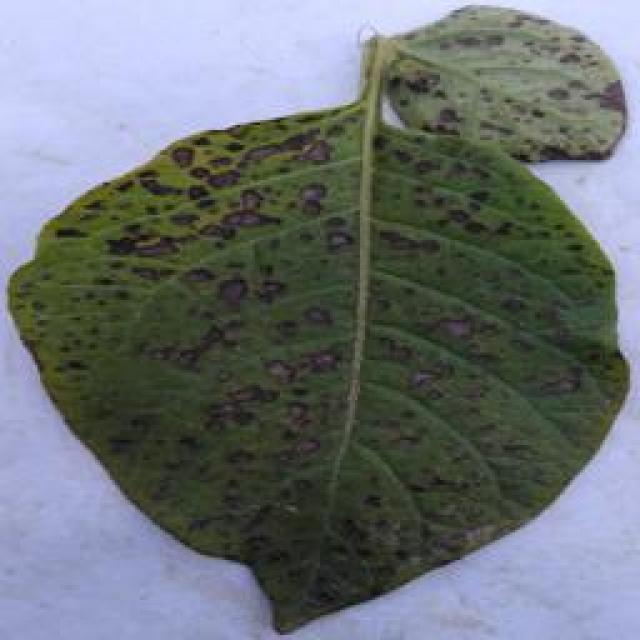Potato_Early_Blight: (8, 34, 638, 630)
